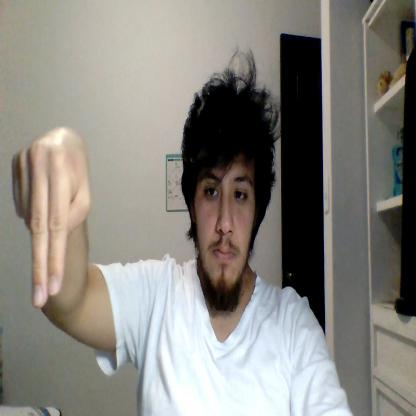N: (12, 126, 91, 306)
